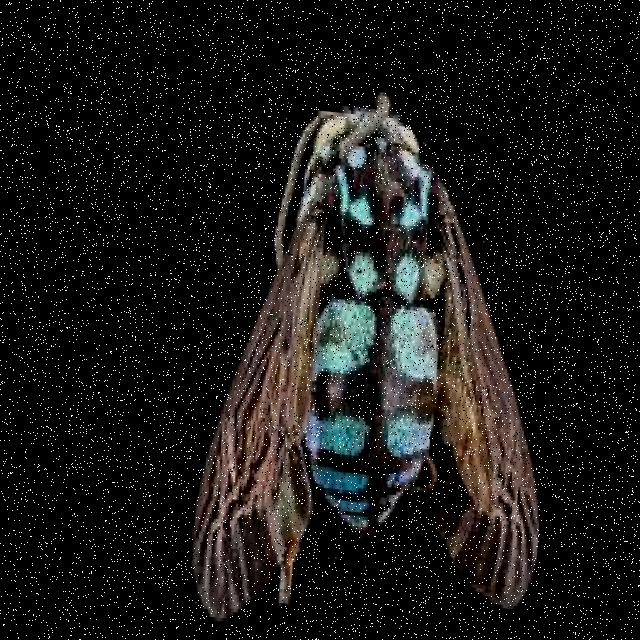Thyreus: (180, 54, 592, 640)
